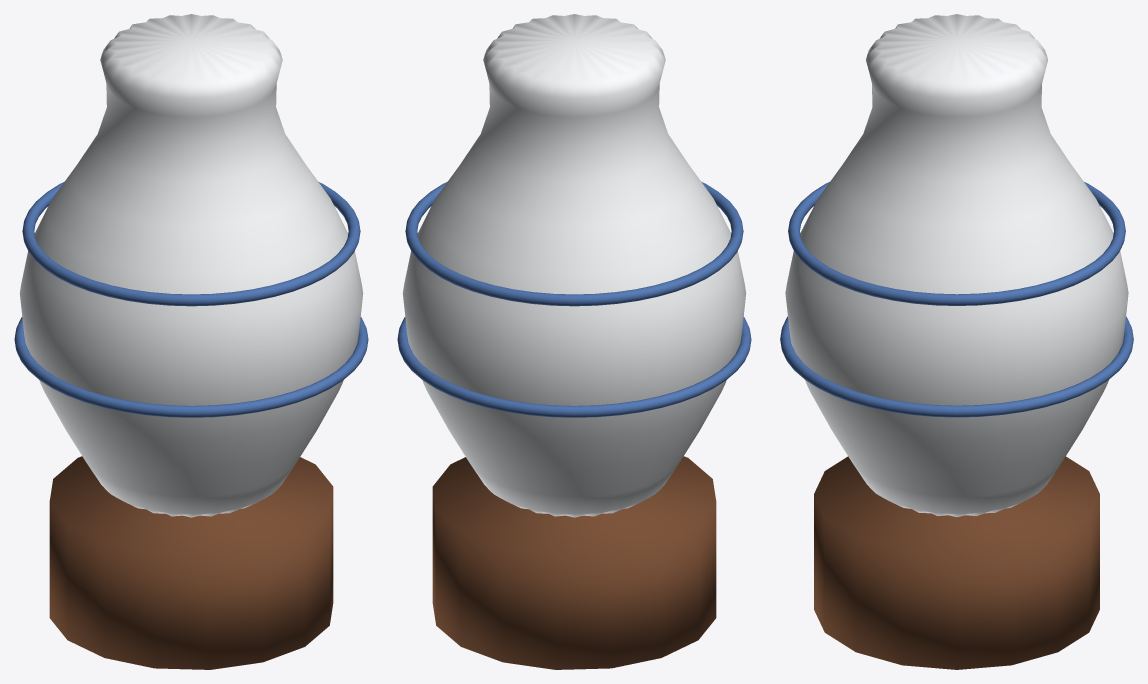
File: binh_gom_co.glb
The picture shows the model from 3 angles, left to right: view 1: azimuth 30°, elevation 25°; view 2: azimuth 150°, elevation 25°; view 3: azimuth 270°, elevation 25°; orthographic projection.
Visible parts, largest first — view 1: Cylinder; view 2: Cylinder; view 3: Cylinder.
Boxes of the visible parts, left/top/right/bottom form: Cylinder: left=14, top=14, right=368, bottom=669; Cylinder: left=397, top=14, right=751, bottom=669; Cylinder: left=780, top=14, right=1133, bottom=669.
Bounding box in the file's own units: 0.9027 × 1.6 × 0.9027.
